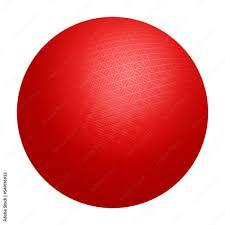Red_Ball: (5, 13, 218, 210)
